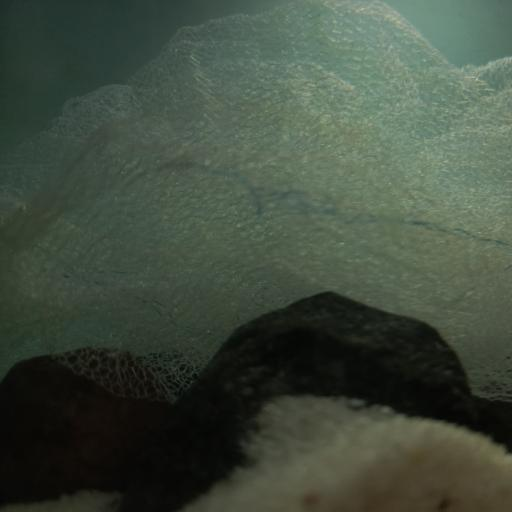net: (1, 0, 512, 405)
